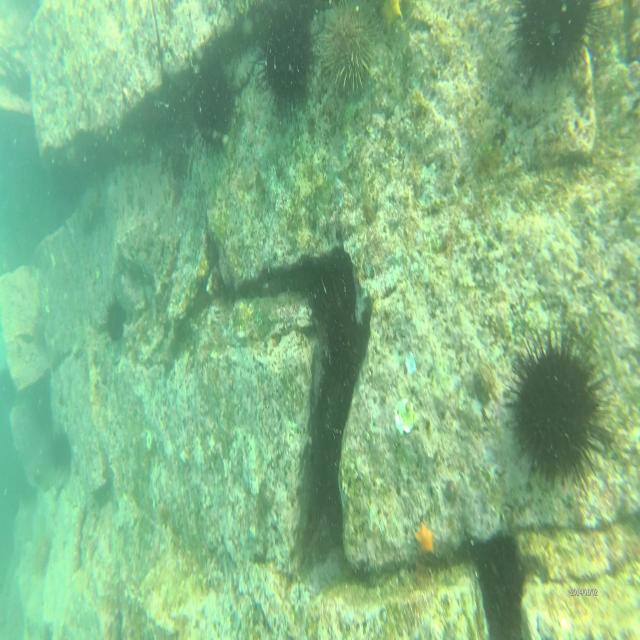echinus: (505, 325, 603, 493), (512, 0, 608, 86), (254, 7, 314, 120), (306, 286, 364, 387), (320, 0, 377, 100), (180, 58, 240, 153), (105, 302, 127, 344), (50, 435, 70, 465)
starfish: (412, 518, 437, 559)
